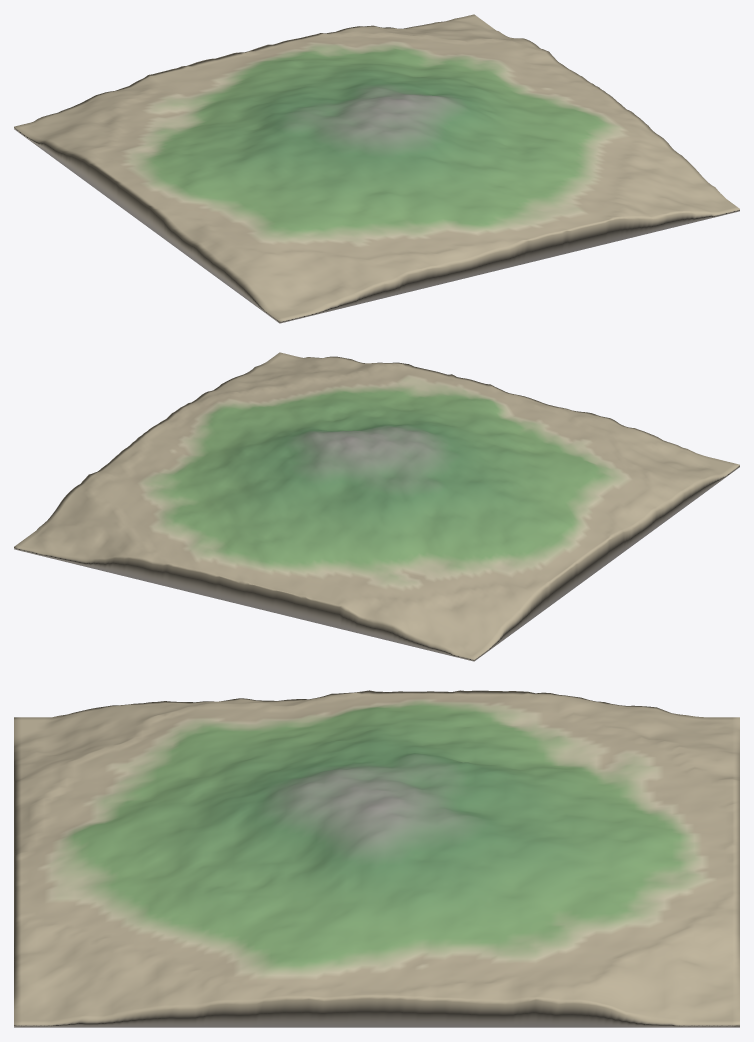
Rendered from gen_island_a.glb.
The picture shows the model from 3 angles, top to bottom: view 1: azimuth 30°, elevation 25°; view 2: azimuth 150°, elevation 25°; view 3: azimuth 270°, elevation 25°; orthographic projection. The views are drawn at different scales.
Parts seen in each view (by area): view 1: gen_island_a; view 2: gen_island_a; view 3: gen_island_a.
Boxes of the visible parts, x1,y1,x2,y2 form: gen_island_a: (14,14,739,323); gen_island_a: (14,352,739,661); gen_island_a: (14,690,739,1027).
Size of the model in its own units: 48 by 6.21 by 48.
